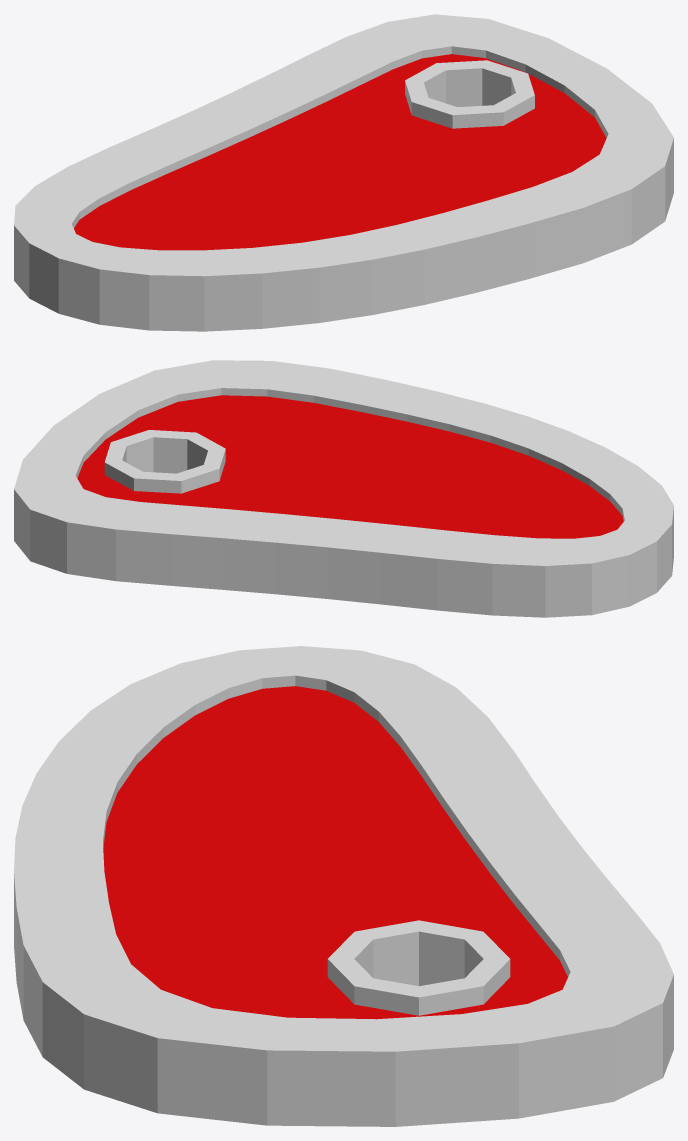
The model's file is Steak.glb.
3 views of the same model, one above another, from view 1: azimuth 30°, elevation 25°; view 2: azimuth 150°, elevation 25°; view 3: azimuth 270°, elevation 25° (orthographic). The views are drawn at different scales.
Parts seen in each view (by area): view 1: Plane.034, Plane.033, Cylinder.009; view 2: Plane.034, Plane.033, Cylinder.009; view 3: Plane.034, Plane.033, Cylinder.009.
Part boxes in pixels (box(x1,y1,x2,y2)): Plane.034: box(14, 14, 673, 331); Plane.033: box(74, 54, 606, 250); Cylinder.009: box(405, 60, 534, 128); Plane.034: box(14, 360, 673, 617); Plane.033: box(77, 395, 623, 538); Cylinder.009: box(104, 430, 225, 493); Plane.034: box(14, 646, 673, 1126); Plane.033: box(103, 686, 567, 1019); Cylinder.009: box(327, 920, 510, 1015).
Size of the model in its own units: 0.3122 by 0.0298 by 0.2146.
